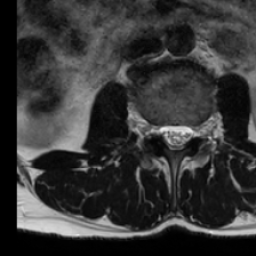CCS_normal: (170, 113, 180, 159)
LFS_normal: (193, 113, 204, 148)
LLS_normal: (180, 113, 193, 154)
RFS_normal: (149, 111, 159, 145)
RLS_normal: (159, 113, 170, 151)
